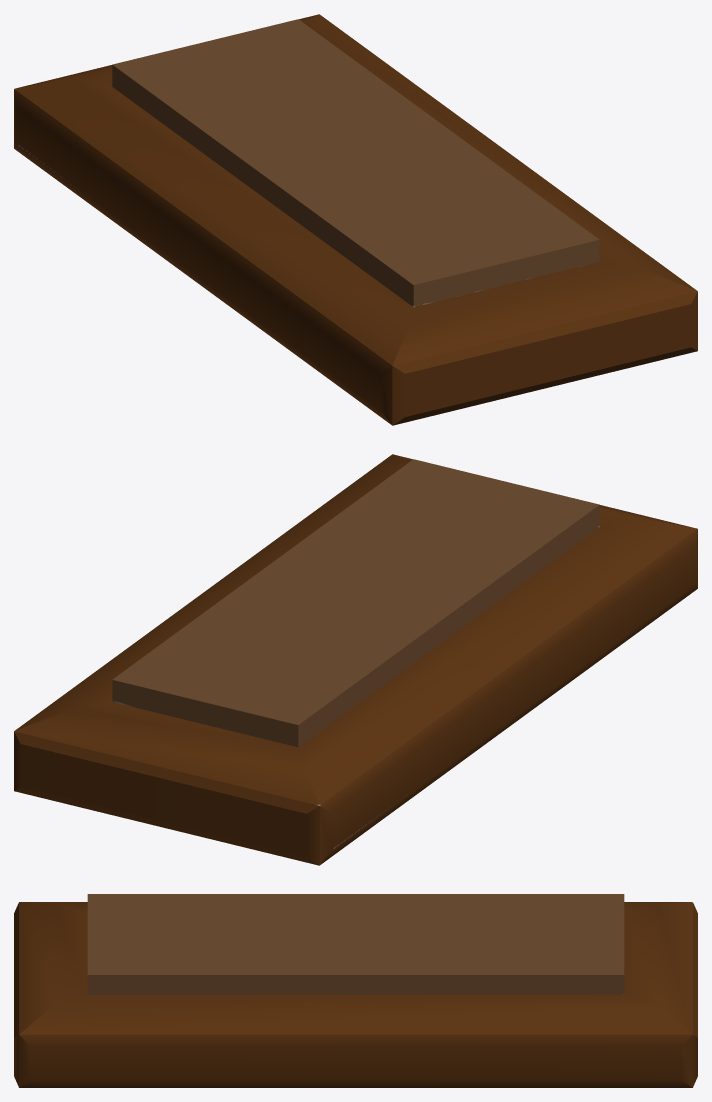
File: platform_final.fbx
3 views of the same model, one above another, from view 1: azimuth 30°, elevation 25°; view 2: azimuth 150°, elevation 25°; view 3: azimuth 270°, elevation 25° (orthographic). The views are drawn at different scales.
Parts seen in each view (by area): view 1: platform; view 2: platform; view 3: platform.
Boxes of the visible parts, x1=… form: platform: x1=14, y1=14, x2=697, y2=425; platform: x1=14, y1=454, x2=697, y2=865; platform: x1=14, y1=894, x2=697, y2=1087.
Bounding box in the file's own units: 5.5 × 1.63 × 11.62.
